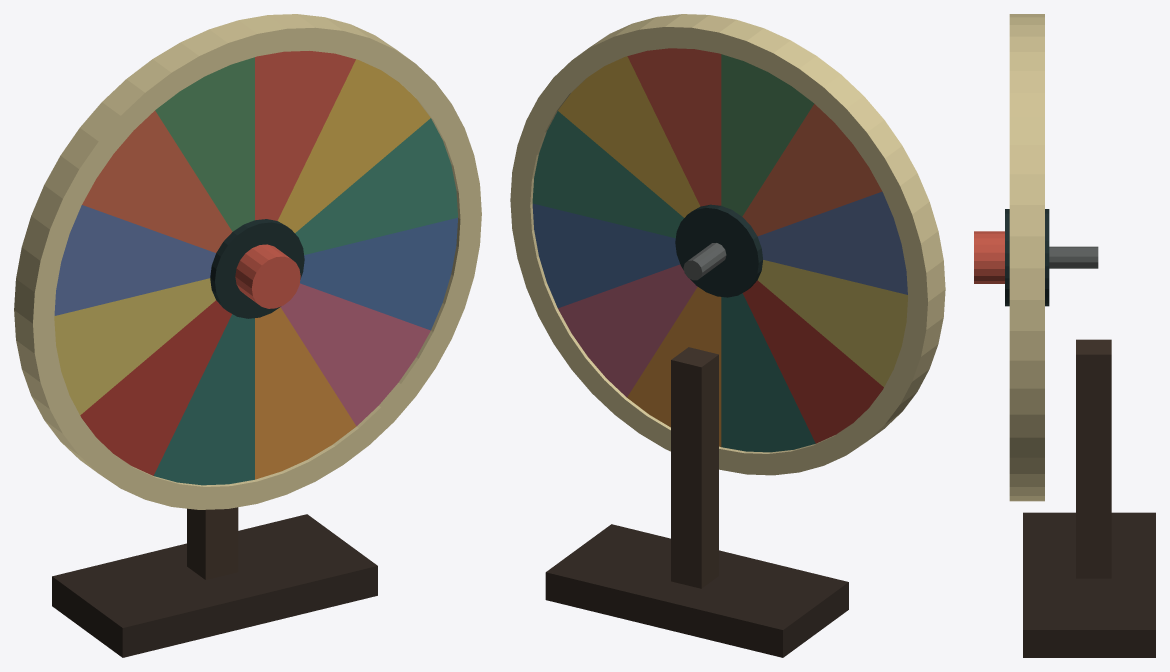
Rendered from prize-wheel.glb.
The picture shows the model from 3 angles, left to right: view 1: azimuth 30°, elevation 25°; view 2: azimuth 150°, elevation 25°; view 3: azimuth 270°, elevation 25°; orthographic projection. The views are drawn at different scales.
Visible parts, largest first — view 1: Wheel, Stand; view 2: Wheel, Stand; view 3: Stand, Wheel.
Part boxes in pixels (bbox=[...]): Wheel: bbox=[14, 14, 481, 509]; Stand: bbox=[52, 507, 377, 657]; Wheel: bbox=[510, 14, 945, 475]; Stand: bbox=[545, 347, 848, 657]; Stand: bbox=[1023, 339, 1155, 657]; Wheel: bbox=[974, 14, 1098, 501].
Bounding box in the file's own units: 2.2 × 2.8 × 0.82.
